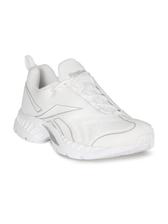shoes: (14, 52, 156, 159)
